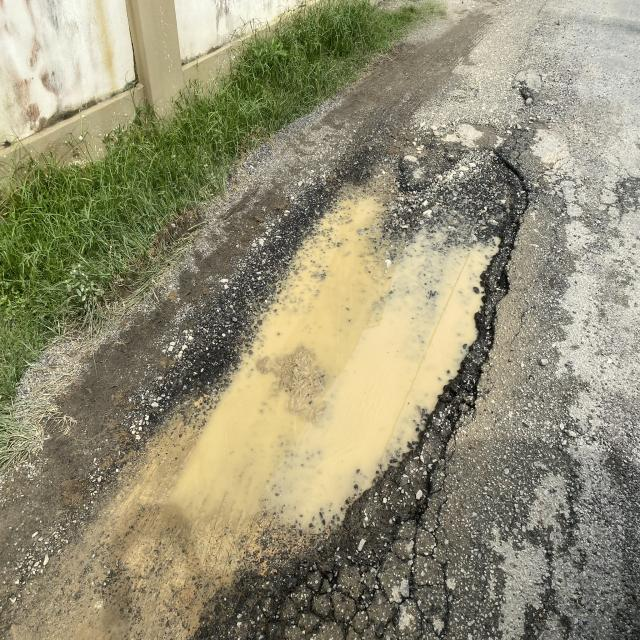Pothole: (236, 125, 548, 582)
